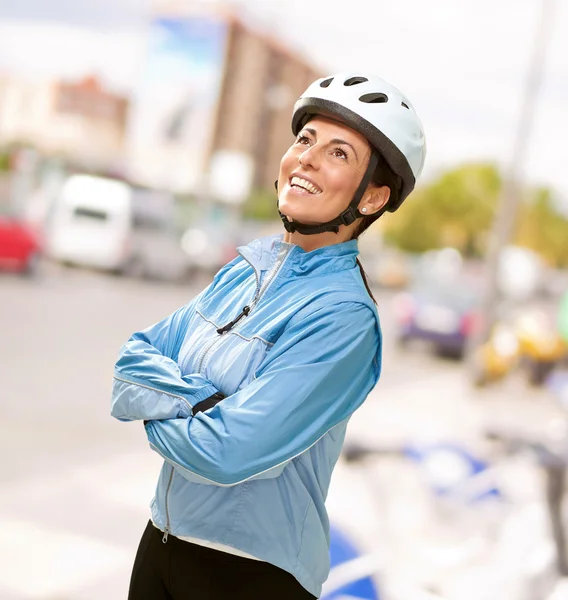helmet: (275, 71, 427, 236)
